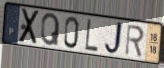0: (63, 15, 81, 50)
J: (103, 20, 124, 57)
L: (84, 17, 99, 54)
Q: (40, 12, 61, 47)
R: (124, 24, 146, 59)
X: (17, 8, 42, 46)
